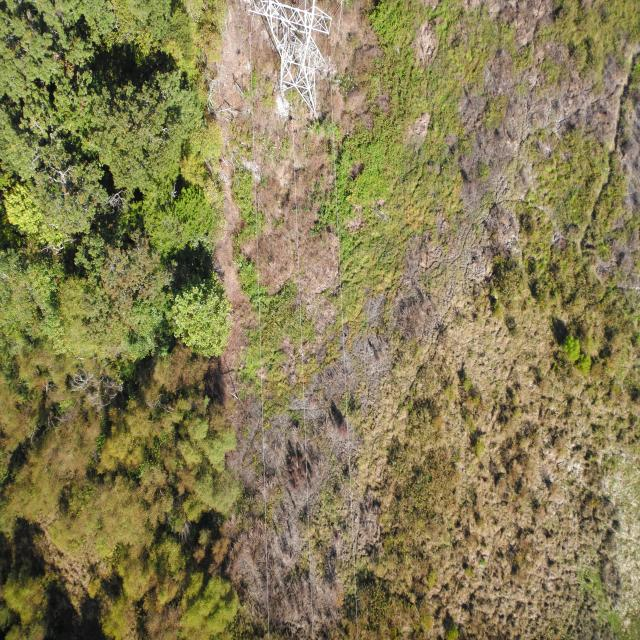Area of Interest: (5, 13, 225, 379)
